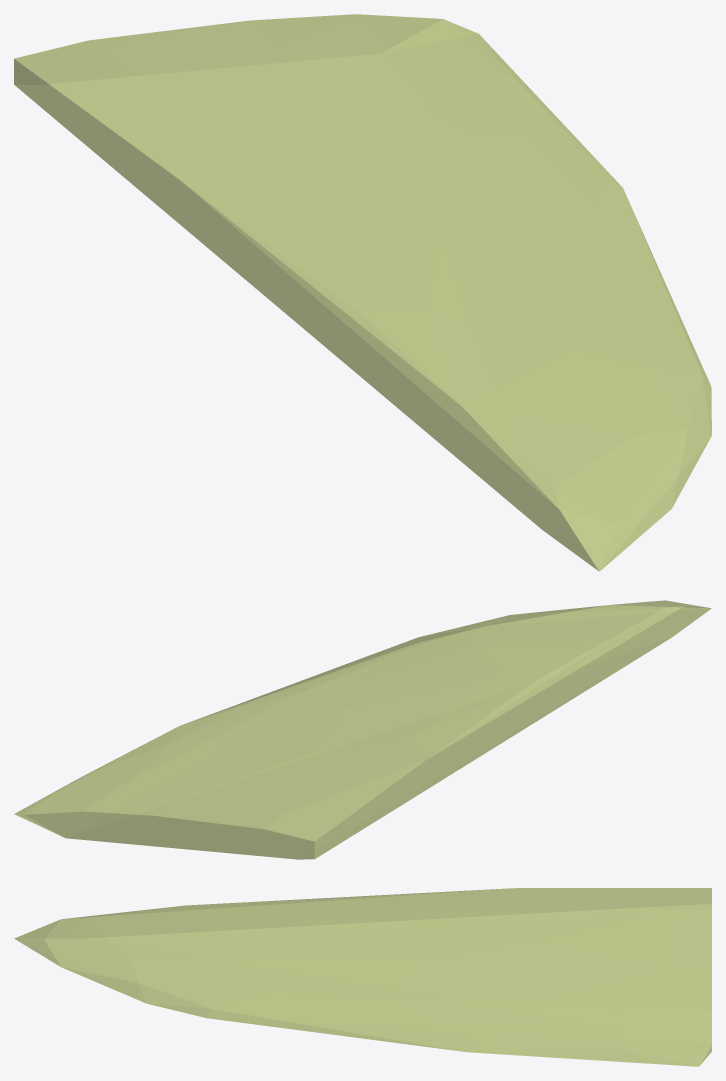
3 renders of one model, top to bottom at view 1: azimuth 30°, elevation 25°; view 2: azimuth 150°, elevation 25°; view 3: azimuth 270°, elevation 25°, orthographic. The views are drawn at different scales.
Parts seen in each view (by area): view 1: Shape_IndexedFaceSet.002_Shape_IndexedFaceSet.10712; view 2: Shape_IndexedFaceSet.002_Shape_IndexedFaceSet.10712; view 3: Shape_IndexedFaceSet.002_Shape_IndexedFaceSet.10712.
Boxes of the visible parts, x1,y1,x2,y2 form: Shape_IndexedFaceSet.002_Shape_IndexedFaceSet.10712: [14, 14, 711, 571]; Shape_IndexedFaceSet.002_Shape_IndexedFaceSet.10712: [14, 600, 711, 859]; Shape_IndexedFaceSet.002_Shape_IndexedFaceSet.10712: [14, 888, 711, 1066].
Bounding box in the file's own units: 0.2411 × 0.0429 × 0.5383.
